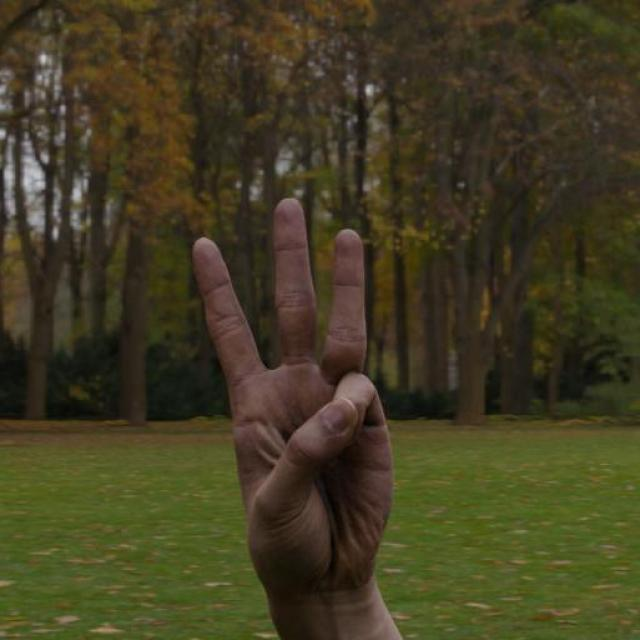W: (185, 194, 399, 640)
